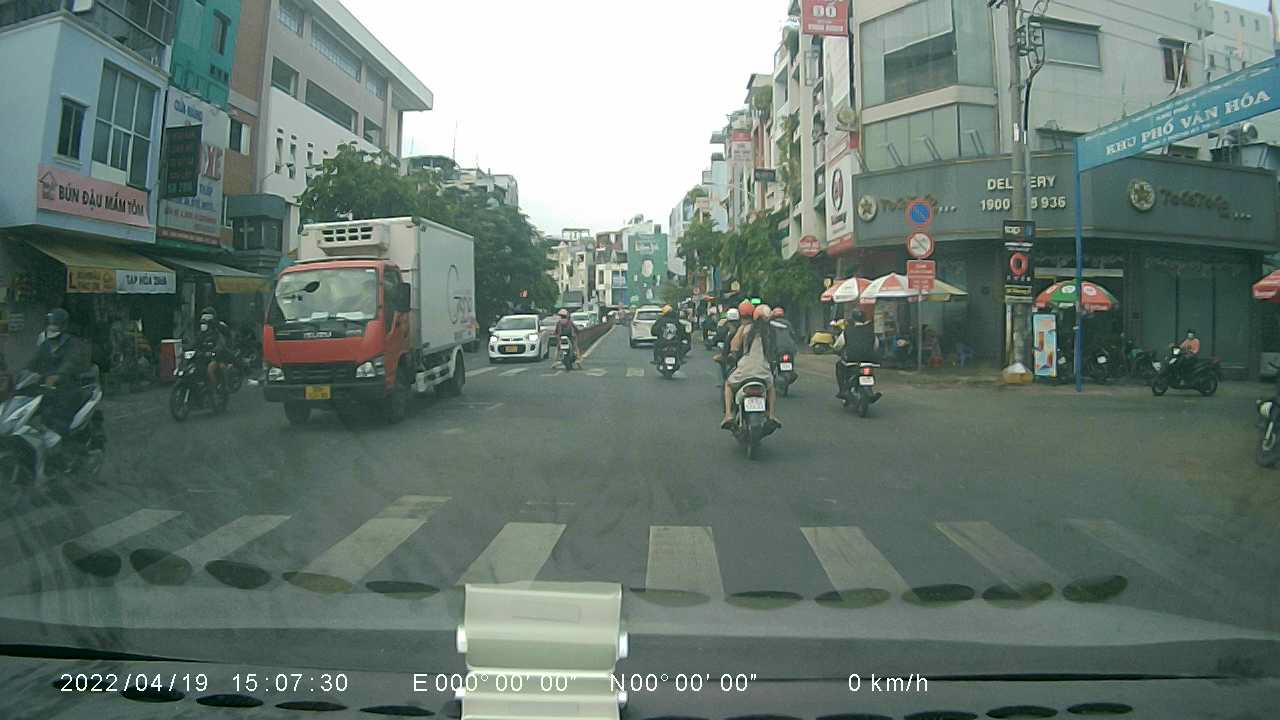Cam do xe: (904, 195, 937, 227)
